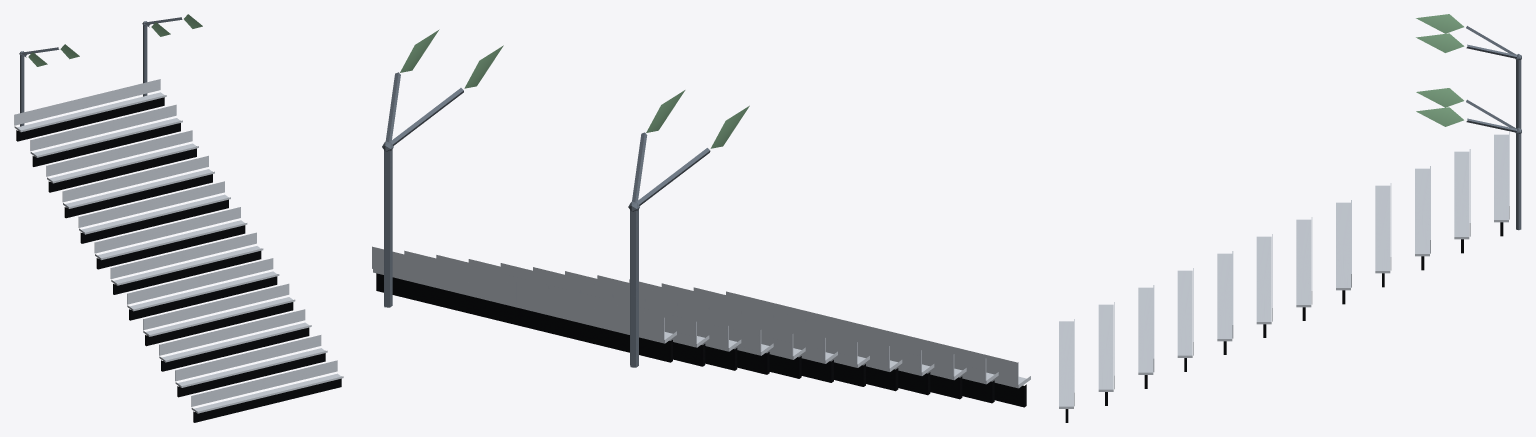
The model's file is tt_stand_module_f3_6p5_seats.glb.
3 renders of one model, left to right at view 1: azimuth 30°, elevation 25°; view 2: azimuth 150°, elevation 25°; view 3: azimuth 270°, elevation 25°, orthographic. The views are drawn at different scales.
Visible parts, largest first — view 1: Seat_Backs, Seat_Beams, Seat_Pans, Canopy_Steel, Canopy_Leaves; view 2: Seat_Backs, Seat_Beams, Canopy_Steel, Seat_Pans, Canopy_Leaves; view 3: Seat_Pans, Canopy_Leaves, Canopy_Steel, Seat_Backs, Seat_Beams.
Part boxes in pixels (bbox=[...]): Seat_Backs: bbox=[14, 79, 337, 406]; Seat_Beams: bbox=[16, 97, 341, 422]; Seat_Pans: bbox=[14, 92, 343, 413]; Canopy_Steel: bbox=[19, 17, 182, 126]; Canopy_Leaves: bbox=[28, 14, 202, 66]; Seat_Backs: bbox=[372, 246, 1018, 384]; Seat_Beams: bbox=[376, 273, 1026, 407]; Canopy_Steel: bbox=[382, 72, 710, 367]; Seat_Pans: bbox=[373, 269, 1030, 388]; Canopy_Leaves: bbox=[400, 29, 749, 148]; Seat_Pans: bbox=[1059, 134, 1508, 408]; Canopy_Leaves: bbox=[1416, 14, 1464, 126]; Canopy_Steel: bbox=[1466, 26, 1521, 230]; Seat_Backs: bbox=[1074, 132, 1509, 406]; Seat_Beams: bbox=[1065, 222, 1503, 422].
Size of what is drawn, in the model's own units: 5.4 by 8.41 by 11.12.
Materials: 4 (3 with a texture image).
